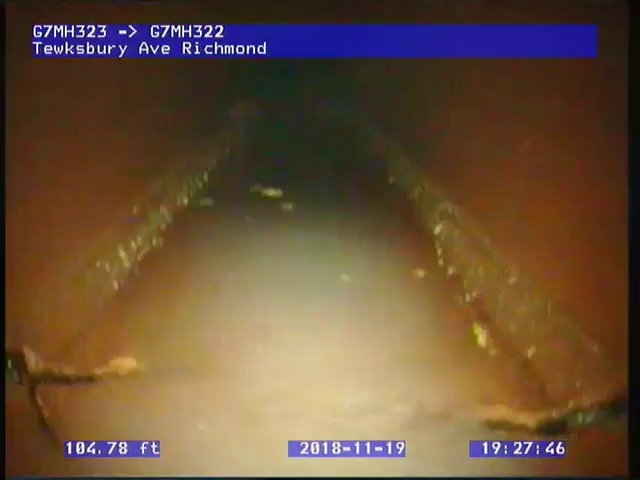crack: (1, 343, 144, 456), (478, 383, 627, 442)
